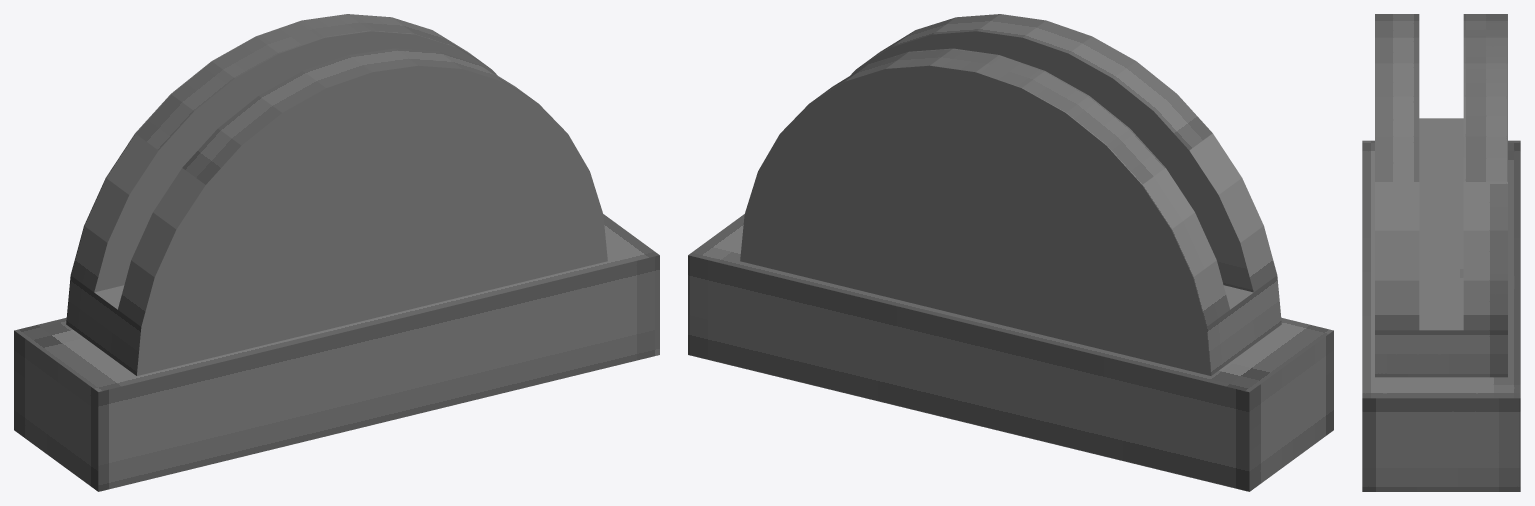
Rendered from lever_alt.fbx.
3 views of the same model, side by side, from view 1: azimuth 30°, elevation 25°; view 2: azimuth 150°, elevation 25°; view 3: azimuth 270°, elevation 25° (orthographic). The views are drawn at different scales.
Visible parts, largest first — view 1: Cylinder.006; view 2: Cylinder.006; view 3: Cylinder.006.
Boxes of the visible parts, left/top/right/bottom form: Cylinder.006: left=14, top=14, right=659, bottom=491; Cylinder.006: left=688, top=14, right=1333, bottom=491; Cylinder.006: left=1362, top=14, right=1520, bottom=491.
Bounding box in the file's own units: 1.98 × 1.17 × 0.5144.
1 material, 1 textured.
